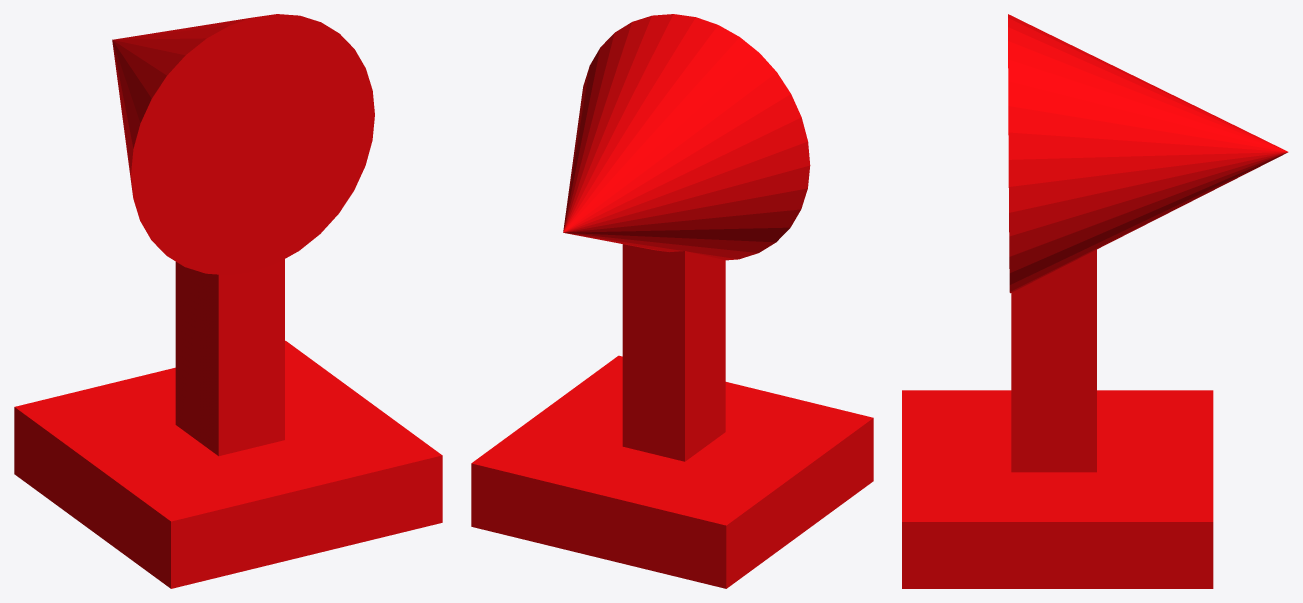
File: enemy.obj
3 renders of one model, left to right at view 1: azimuth 30°, elevation 25°; view 2: azimuth 150°, elevation 25°; view 3: azimuth 270°, elevation 25°, orthographic. The views are drawn at different scales.
Parts seen in each view (by area): view 1: Cube, 円錐, 立方体; view 2: Cube, 円錐, 立方体; view 3: Cube, 円錐, 立方体.
Part boxes in pixels (box(x1,y1,x2,y2)): Cube: box(14, 340, 442, 588); 円錐: box(112, 14, 374, 275); 立方体: box(175, 259, 284, 456); Cube: box(471, 355, 873, 588); 円錐: box(563, 14, 810, 260); 立方体: box(622, 244, 725, 461); Cube: box(902, 390, 1213, 588); 円錐: box(1008, 14, 1288, 293); 立方体: box(1011, 249, 1096, 472).
Bounding box in the file's own units: 1.05 × 1.85 × 1.31.
